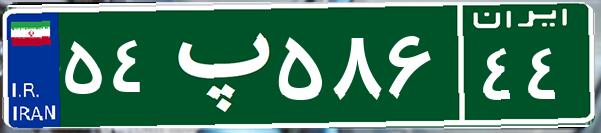4: (475, 38, 525, 113), (110, 28, 158, 105), (525, 38, 570, 115)
5: (273, 28, 330, 110), (57, 26, 110, 107)
6: (385, 28, 445, 110)
8: (330, 28, 385, 110)
پ: (158, 15, 273, 115)
